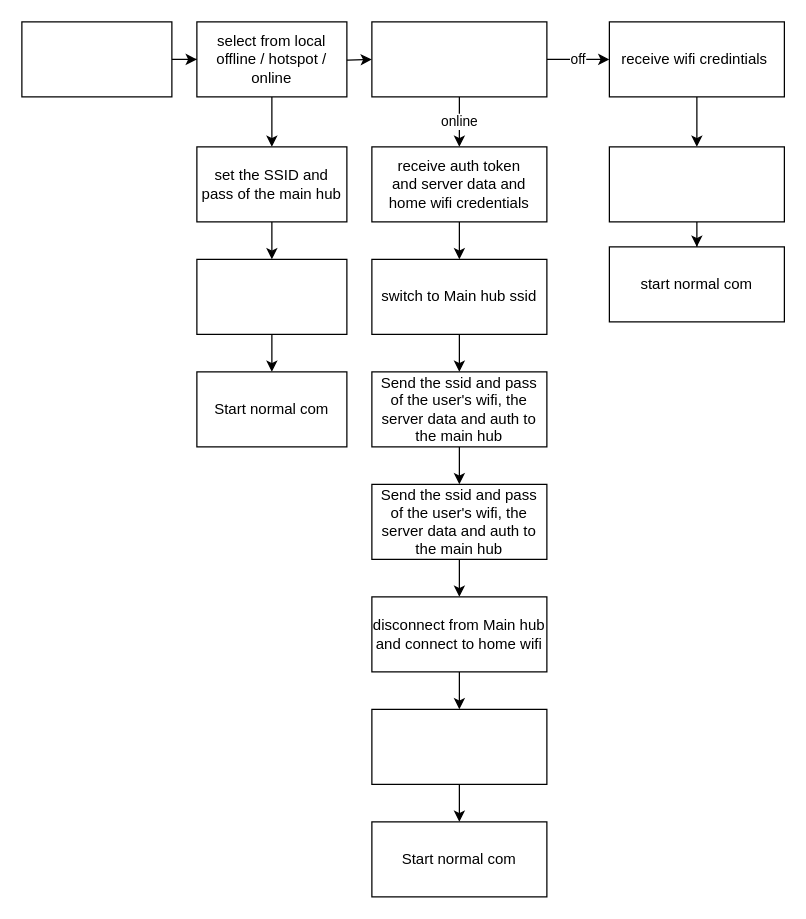
The diagram is 806 pixels wide and 919 high, and some of its shapes have lost their labels. Here are the shapes that lost their labels. From the top down, the centre of each, then its label:
the point at 96,59: User name password
the point at 459,59: if local offline / online
the point at 696,184: reconnect to home wifi
the point at 271,296: Reconnect to the main hub
the point at 459,746: main hub send auth token to the server
